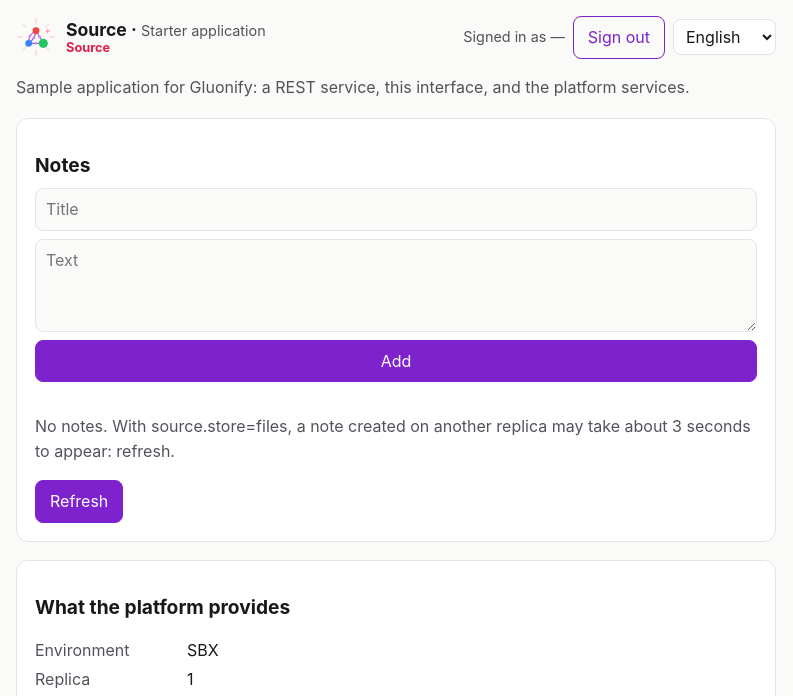
Test: gluonify-source UI › creates a note (POST) then refreshes; 403: message about the missing role
Type "New" into the field named "Title" at (396,210), box [35,188,757,231]
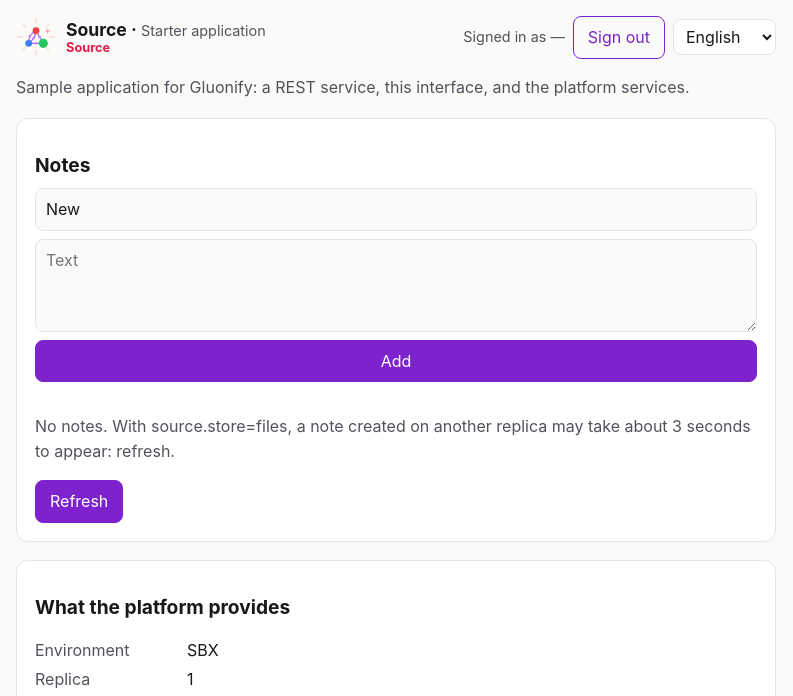
Submit the form with class "stack", box [35,188,757,382]
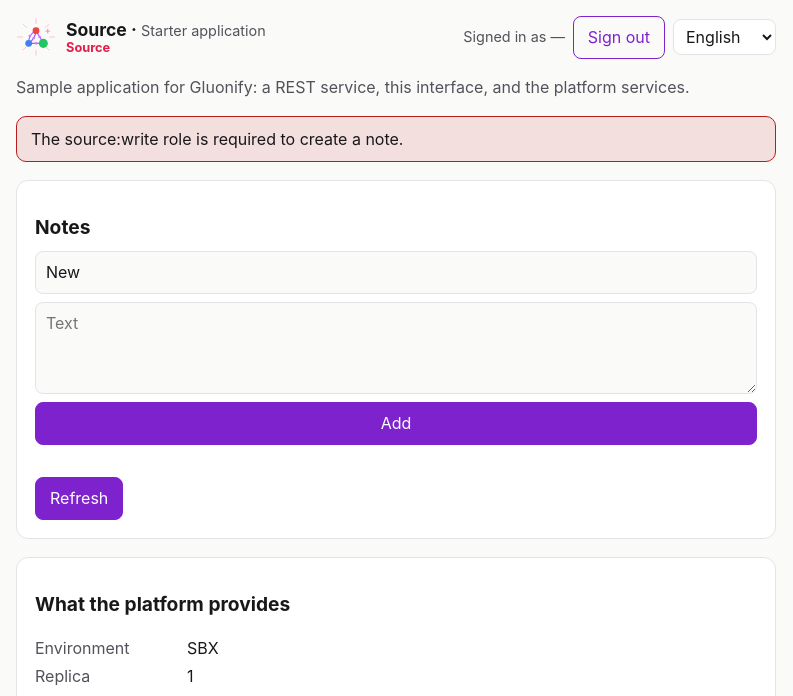
Check: the message "The source:write role is required to create a note." is shown, box [16,116,776,162]
